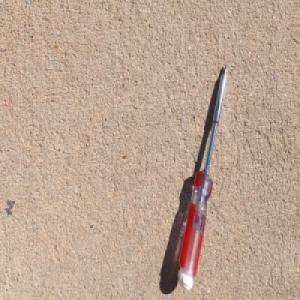Screwdriver: (176, 61, 228, 292)
